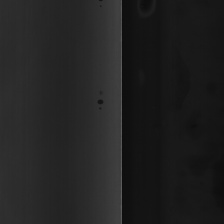oil_spot: (94, 86, 109, 115)
